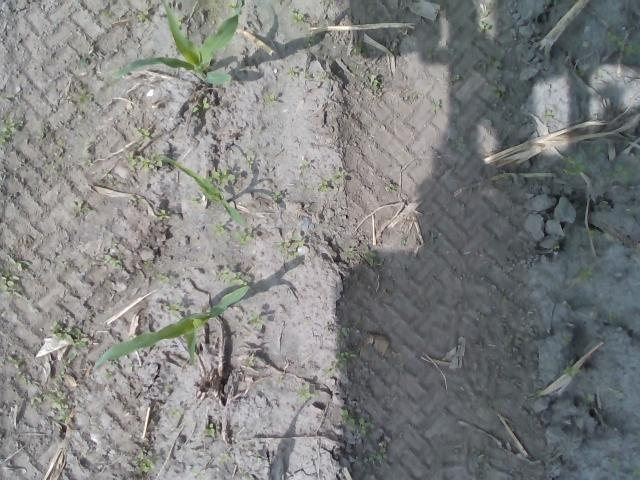Maize: (92, 284, 250, 372), (112, 0, 239, 87), (157, 154, 245, 227)
Weeds: (53, 321, 89, 350), (42, 390, 72, 422), (337, 406, 369, 434), (344, 246, 382, 268), (317, 168, 349, 194), (607, 29, 640, 54), (5, 355, 32, 384), (323, 350, 350, 378), (276, 234, 304, 260), (205, 167, 236, 189), (125, 153, 162, 171), (132, 448, 158, 472), (216, 267, 248, 286), (565, 153, 587, 178), (1, 271, 22, 295), (0, 118, 17, 145), (296, 381, 314, 403), (78, 52, 99, 68), (236, 226, 254, 243), (616, 163, 634, 180), (578, 266, 595, 284), (287, 8, 306, 24), (153, 270, 174, 284), (248, 312, 264, 328), (206, 16, 222, 32), (562, 364, 580, 378), (105, 254, 122, 267), (454, 135, 466, 152), (492, 80, 503, 98), (339, 324, 353, 338), (136, 9, 150, 23), (50, 372, 64, 386), (70, 200, 84, 214), (242, 354, 256, 368), (136, 128, 152, 140), (166, 302, 182, 314), (496, 295, 515, 305), (369, 452, 384, 464), (16, 258, 34, 268), (478, 22, 494, 33), (264, 92, 276, 106), (269, 190, 283, 202), (156, 209, 170, 220), (584, 226, 596, 238), (212, 223, 225, 234), (191, 196, 201, 210), (220, 450, 230, 464), (369, 74, 379, 87), (432, 99, 442, 112), (426, 47, 436, 59), (584, 392, 594, 404), (202, 96, 210, 110), (208, 423, 216, 437), (230, 0, 238, 14), (167, 408, 178, 417), (352, 44, 364, 52), (454, 74, 466, 82), (576, 68, 586, 77), (288, 67, 297, 77), (102, 370, 111, 380), (553, 241, 559, 250), (192, 106, 198, 114), (400, 238, 406, 245)
